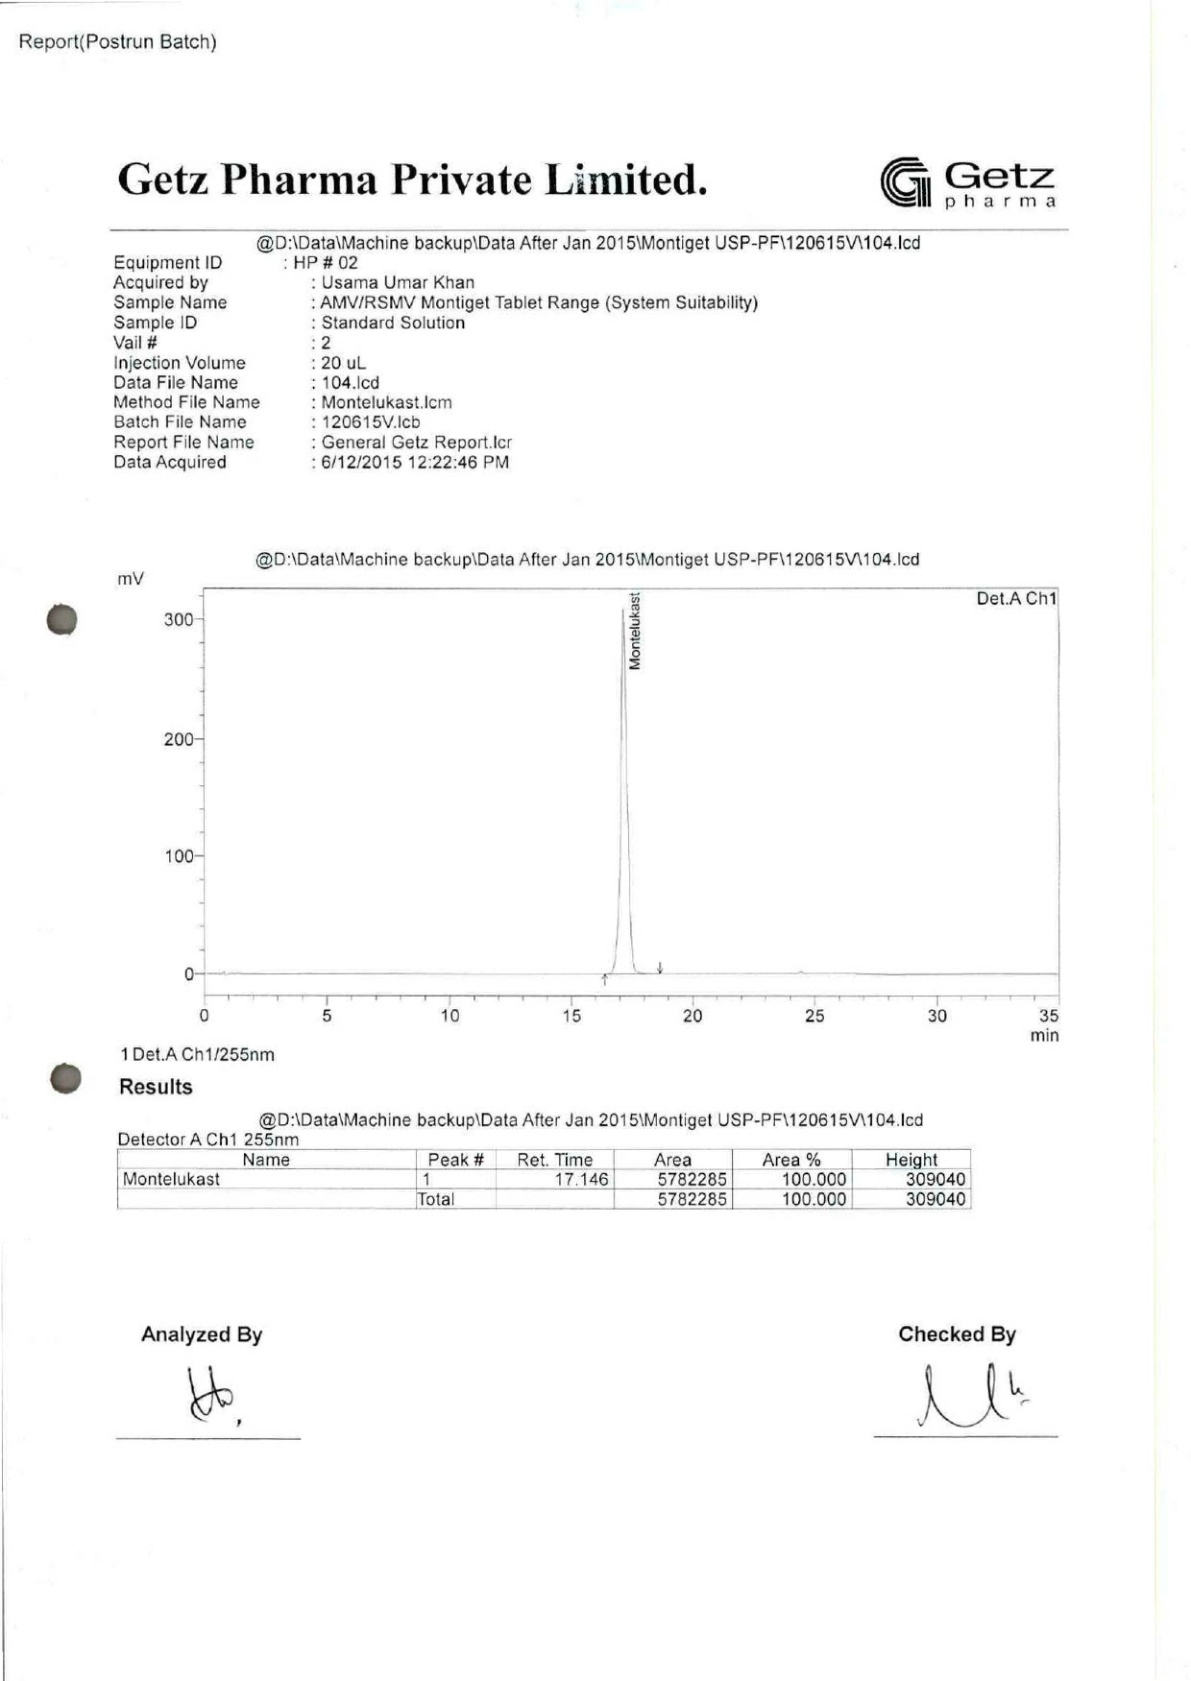full_lined: (116, 1147, 973, 1210)
nolines: (111, 253, 760, 474)
